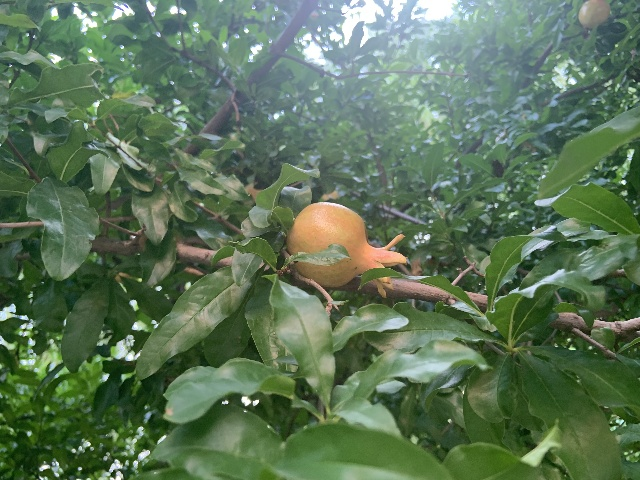mid-growth: (286, 201, 408, 299)
